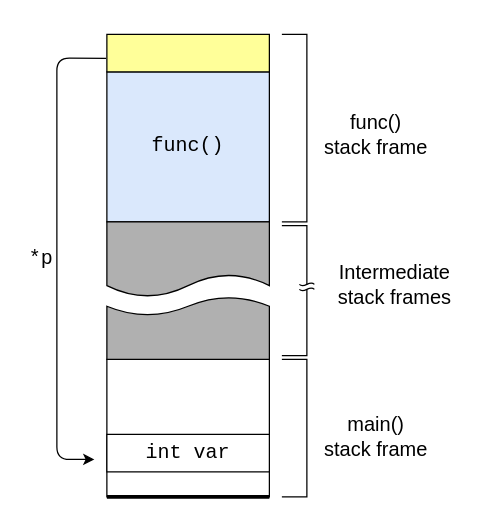
The diagram is 490 pixels wide and 521 high, and some of its shapes have lost their labels. The shapes that lost their labels are listed below. From the top down, each one's box as (x1, y1, x2, y2) in pixels, then its label:
(106, 33, 269, 72): int* p = &var
(106, 358, 269, 497): main()
